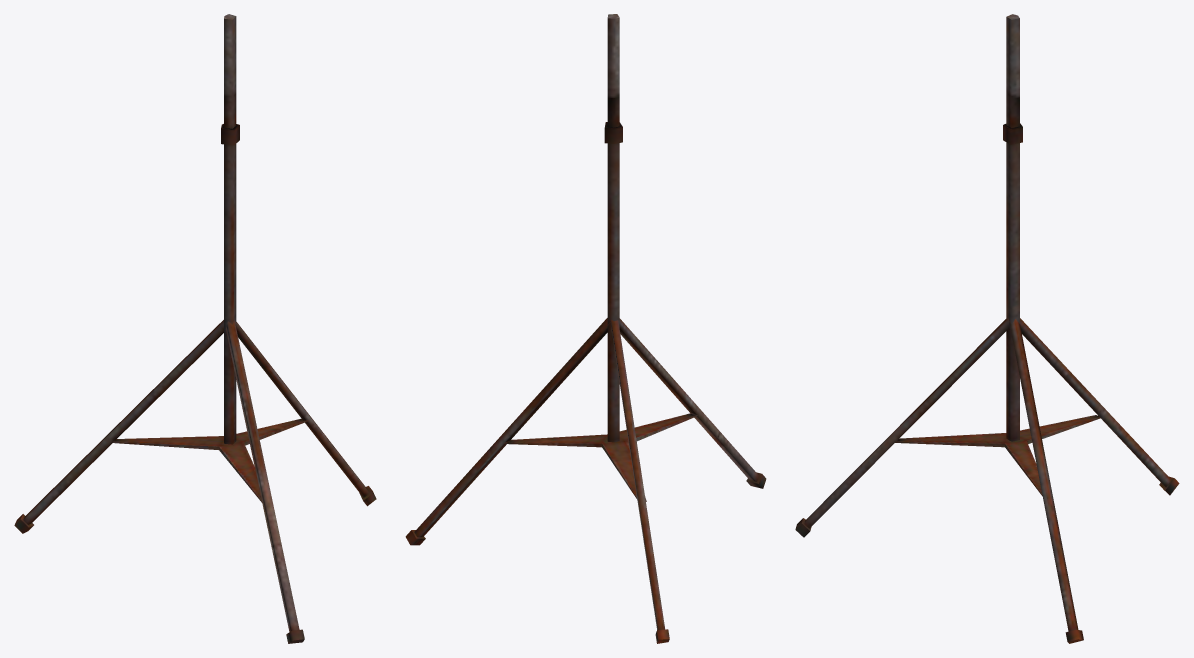
Rendered from StandLong.FBX.
The picture shows the model from 3 angles, left to right: view 1: azimuth 30°, elevation 25°; view 2: azimuth 150°, elevation 25°; view 3: azimuth 270°, elevation 25°; orthographic projection.
Parts seen in each view (by area): view 1: StandLong; view 2: StandLong; view 3: StandLong.
Part boxes in pixels (x1=…): StandLong: x1=14, y1=14, x2=376, y2=643; StandLong: x1=405, y1=14, x2=766, y2=643; StandLong: x1=795, y1=14, x2=1179, y2=643.
Bounding box in the file's own units: 85.27 × 144 × 91.61.
